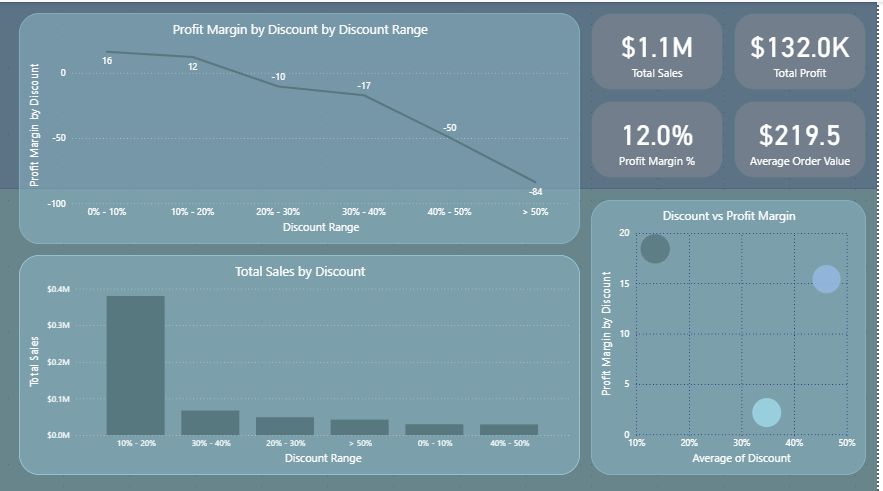

This screenshot's page, from the dashboard's own definition file:
{"tool":"powerbi","page":{"name":"Discount & Campaign Analysis","canvas":[1280,720],"ordinal":2},"visuals":[{"type":"shape","box":[0,272,1280,448],"z":0},{"type":"shape","box":[0,0,1280,272],"z":1000},{"type":"card","fields":{"Values":["_Measures.Total Sales"]},"box":[864,16,192,112],"z":2000},{"type":"card","fields":{"Values":["_Measures.Total Profit"]},"box":[1072,16,192,112],"z":3000},{"type":"card","fields":{"Values":["_Measures.Profit Margin %"]},"box":[864,144,192,112],"z":4000},{"type":"card","fields":{"Values":["_Measures.Average Order Value (AOV)"]},"box":[1072,144,192,112],"z":5000},{"type":"scatterChart","title":"Discount vs Profit Margin","fields":{"X":["Avg(sales_analytics orders.Discount)"],"Y":["_Measures.Profit Margin by Discount"],"Size":["_Measures.Total Sales"],"Category":["sales_analytics vw_sales_full.Category"]},"box":[864,288,400,400],"z":6000},{"type":"clusteredColumnChart","title":"Total Sales by Discount","fields":{"Category":["sales_analytics orders.Discount Range"],"Y":["_Measures.Total Sales"]},"box":[32,368,816,320],"z":7000},{"type":"lineChart","fields":{"Y":["_Measures.Profit Margin by Discount"],"Category":["sales_analytics orders.Discount Range"]},"box":[32,16,816,336],"z":8000}]}

Visuals, with their boxes in screenshot pixels (x1, y1, x2, y2), scaled from the page's 1280x720 canvas onto the 883x491 screenshot:
shape: 0 185 882 490
shape: 0 0 882 185
card - _Measures.Total Sales: 596 11 728 87
card - _Measures.Total Profit: 740 11 872 87
card - _Measures.Profit Margin %: 596 98 728 175
card - _Measures.Average Order Value (AOV): 740 98 872 175
"Discount vs Profit Margin" scatterChart: 596 196 872 469
"Total Sales by Discount" clusteredColumnChart: 22 251 585 469
lineChart - _Measures.Profit Margin by Discount x sales_analytics orders.Discount Range: 22 11 585 240
